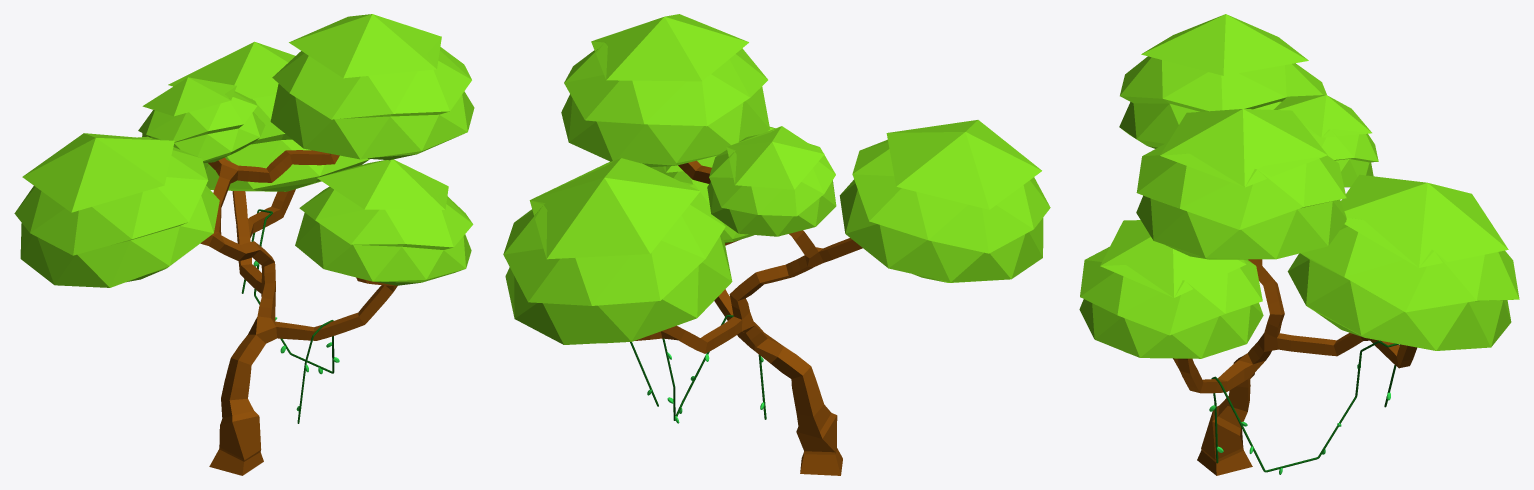
The model's file is tree 1.fbx.
3 views of the same model, side by side, from view 1: azimuth 30°, elevation 25°; view 2: azimuth 150°, elevation 25°; view 3: azimuth 270°, elevation 25° (orthographic). The views are drawn at different scales.
Parts seen in each view (by area): view 1: Icosphere, Icosphere.001, Icosphere.002, Cube, Icosphere.003, Icosphere.004, Cube.001; view 2: Icosphere.003, Icosphere, Icosphere.001, Icosphere.004, Cube, Icosphere.002, Cube.001; view 3: Icosphere.003, Icosphere.001, Icosphere.002, Icosphere, Cube, Icosphere.004, Cube.001.
Boxes of the visible parts, box(x1,y1,x2,y2) form: Icosphere: box(14, 133, 219, 287); Icosphere.001: box(270, 14, 474, 160); Icosphere.002: box(295, 159, 473, 285); Cube: box(200, 150, 397, 475); Icosphere.003: box(168, 41, 369, 191); Icosphere.004: box(138, 77, 265, 163); Cube.001: box(241, 209, 334, 423); Icosphere.003: box(503, 158, 732, 344); Icosphere: box(839, 120, 1050, 282); Icosphere.001: box(561, 14, 769, 167); Icosphere.004: box(707, 126, 836, 236); Cube: box(635, 160, 862, 475); Icosphere.002: box(651, 127, 775, 243); Cube.001: box(630, 315, 766, 420); Icosphere.003: box(1287, 174, 1519, 350); Icosphere.001: box(1136, 109, 1346, 259); Icosphere.002: box(1079, 220, 1263, 358); Icosphere: box(1119, 14, 1326, 148); Cube: box(1173, 259, 1416, 475); Icosphere.004: box(1273, 95, 1378, 187); Cube.001: box(1211, 340, 1400, 472).
Bounding box in the file's own units: 2199 × 1947 × 1811.
